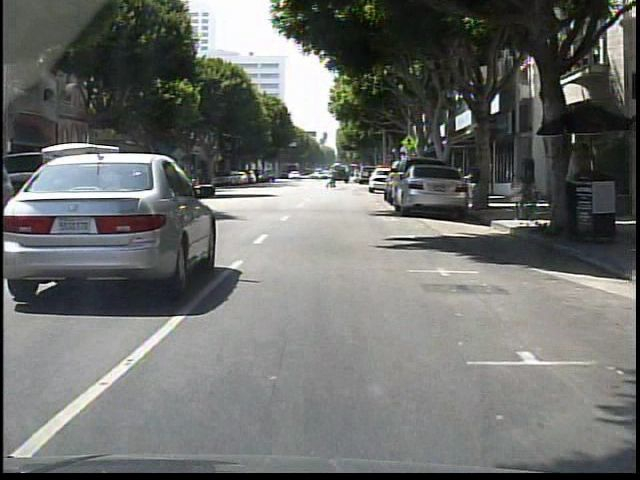person: (561, 141, 597, 236), (323, 167, 340, 191)
